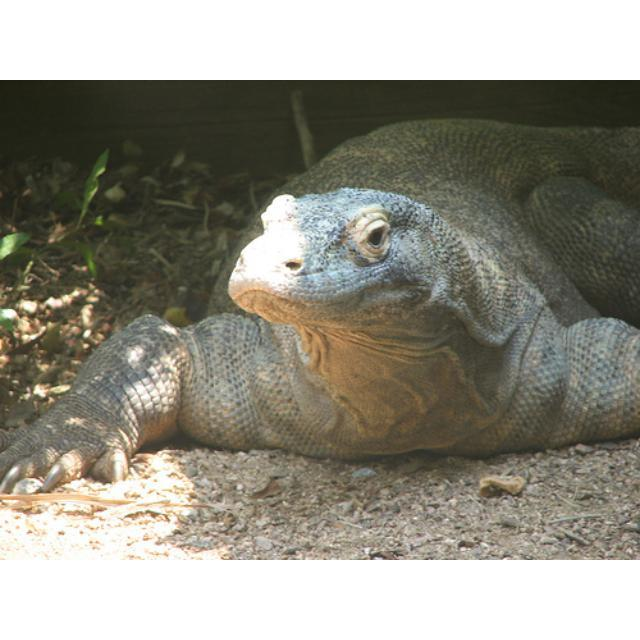KomodoDragon: (1, 117, 638, 494)
